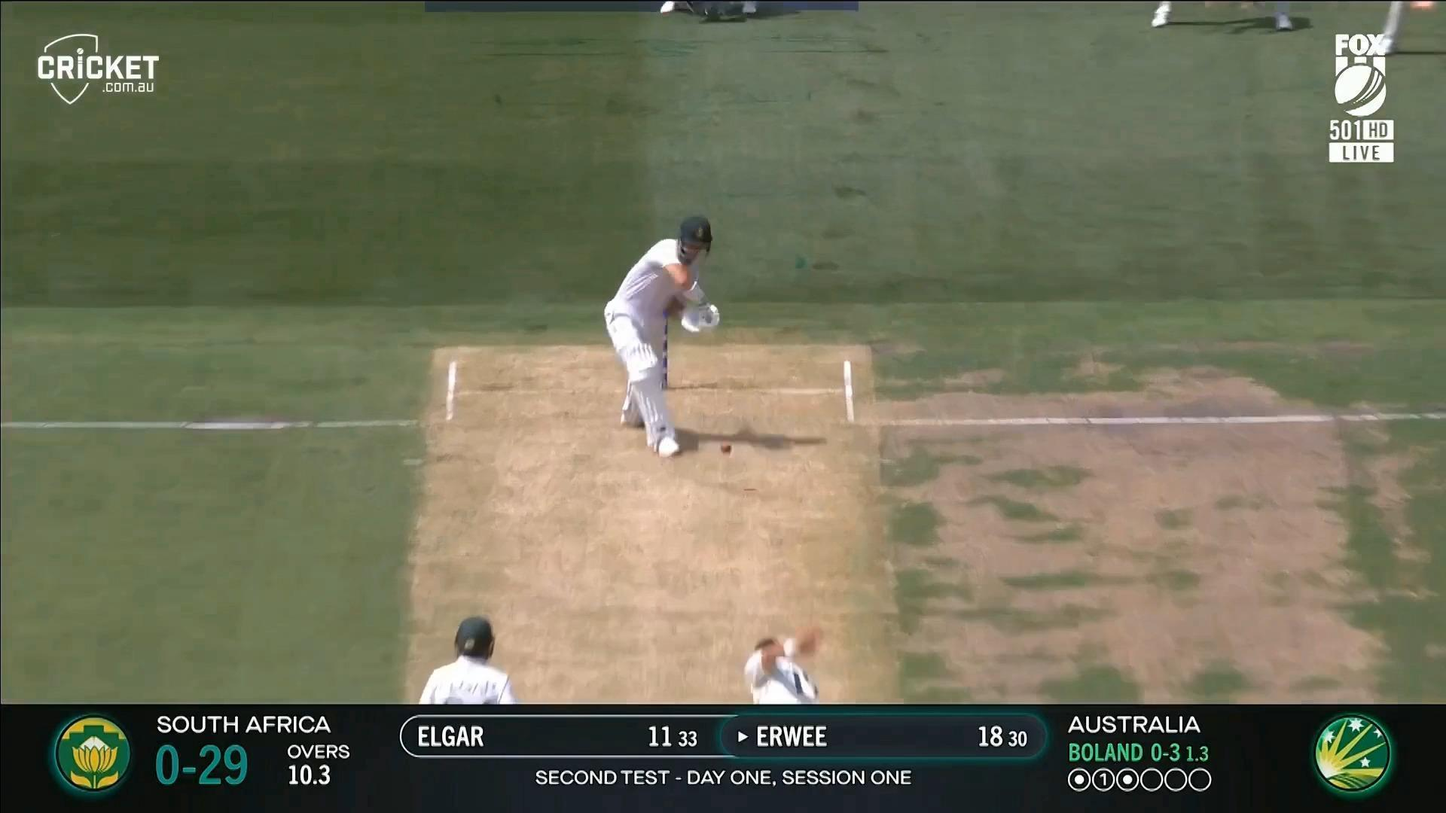BM 1: (602, 215, 723, 461), (408, 615, 524, 702)
BO: (743, 626, 824, 705)
